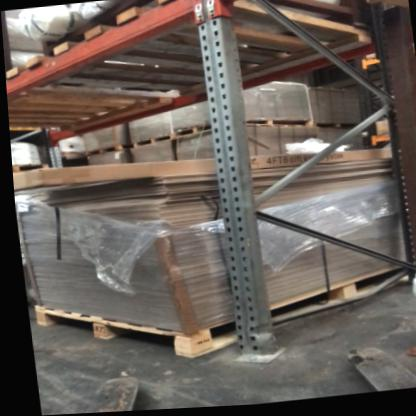vertical_damage: (220, 297, 285, 372)
